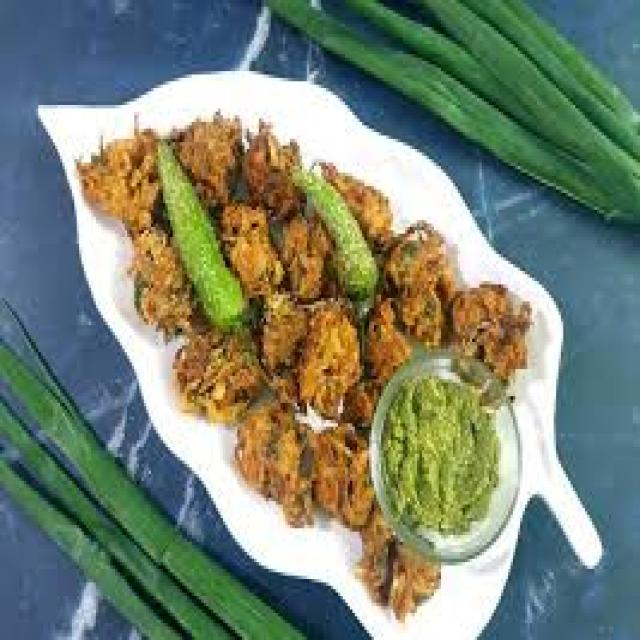BAJI: (81, 100, 527, 602)
